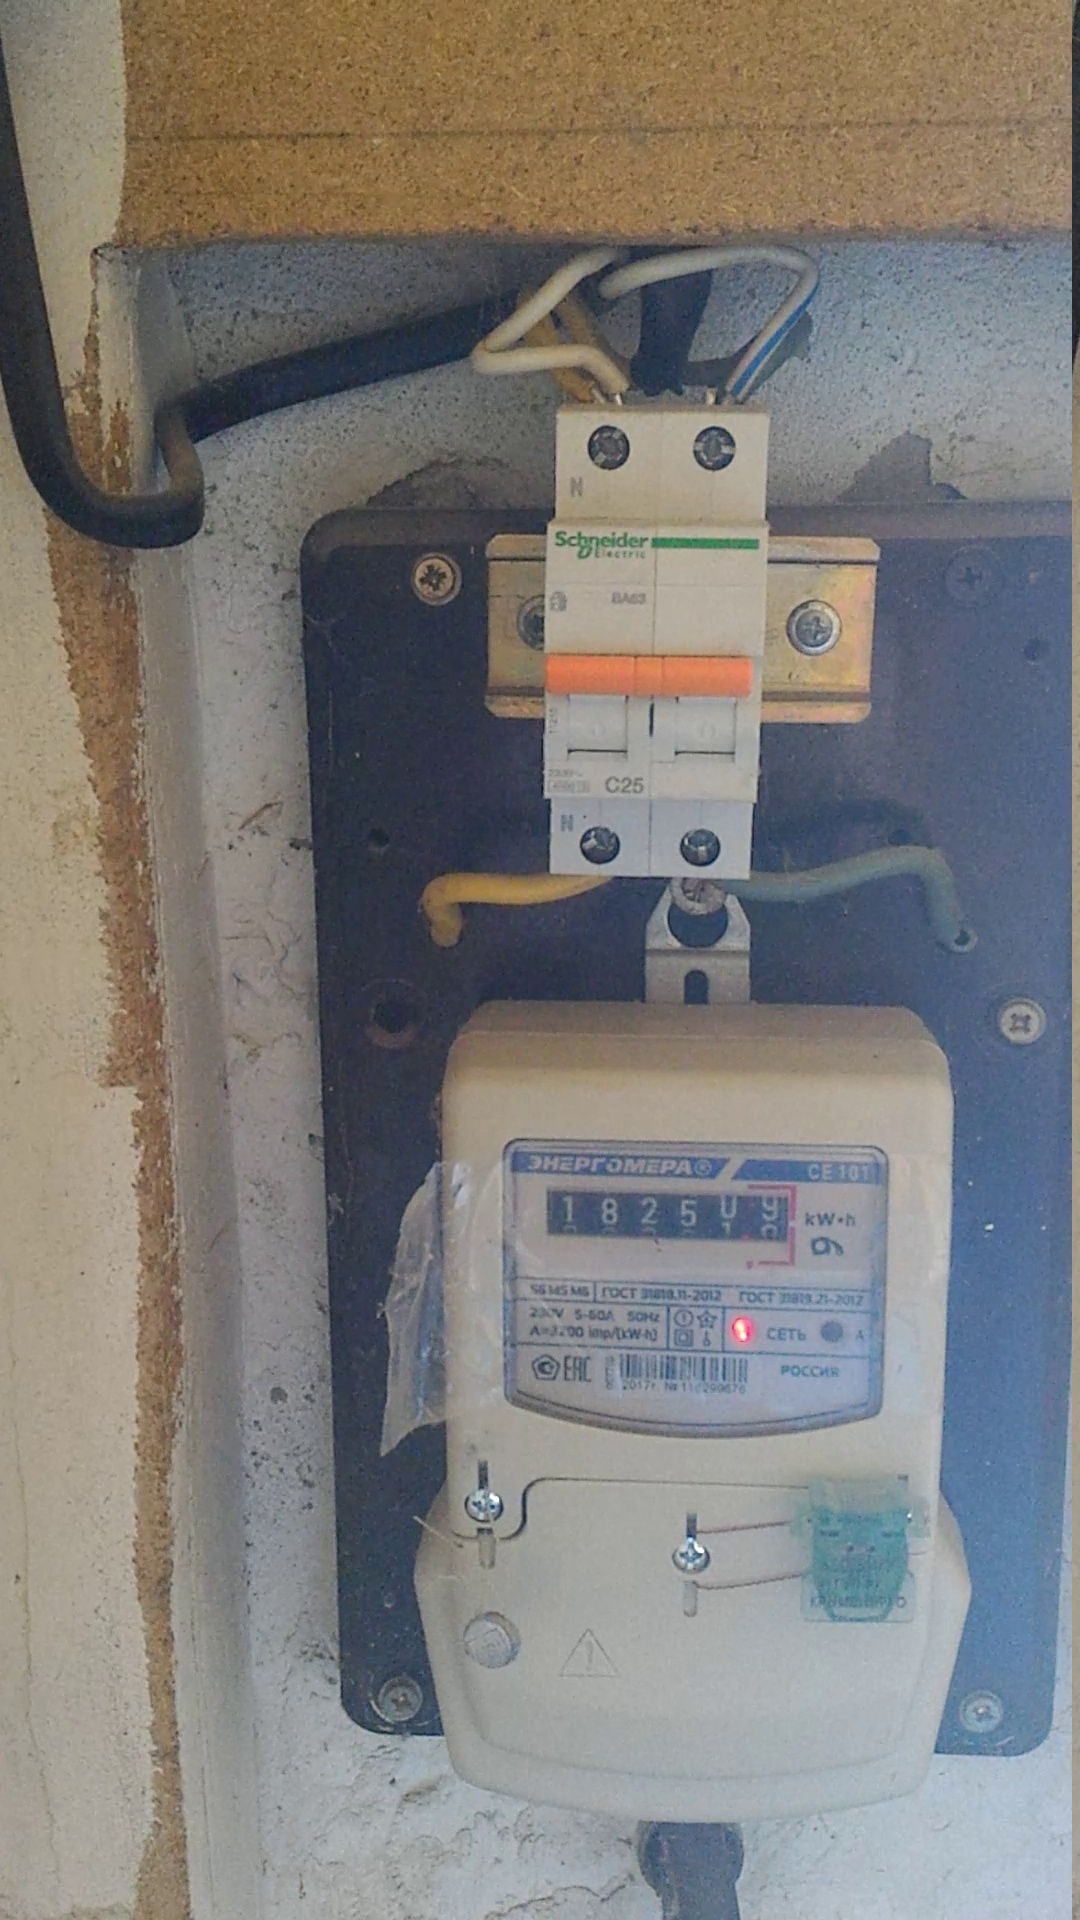0: (717, 1193, 738, 1220)
1: (560, 1192, 579, 1224), (719, 1220, 735, 1240)
2: (638, 1193, 662, 1226)
5: (676, 1196, 702, 1230)
8: (599, 1195, 620, 1226)
9: (758, 1196, 782, 1222)
screen: (538, 1182, 799, 1253)
